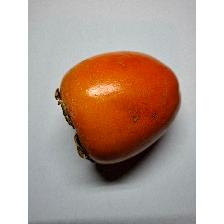Kaki: (54, 46, 184, 166)
